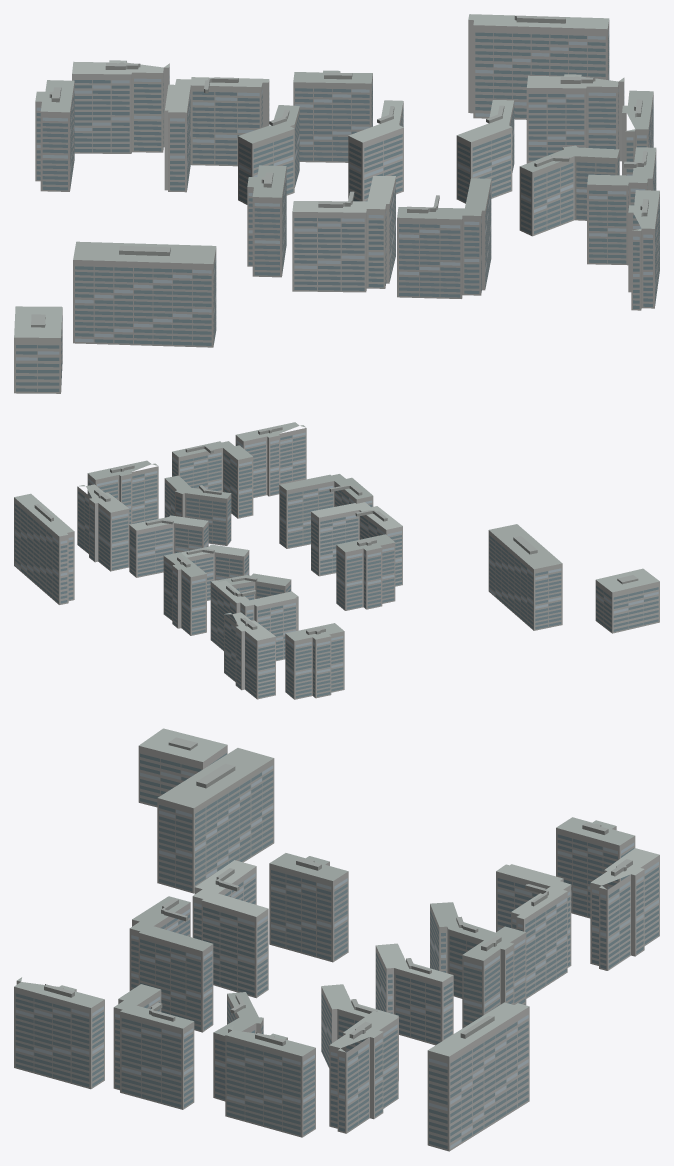
File: apt-a15780806.glb
3 renders of one model, top to bottom at view 1: azimuth 30°, elevation 25°; view 2: azimuth 150°, elevation 25°; view 3: azimuth 270°, elevation 25°, orthographic. The views are drawn at different scales.
Visible parts, largest first — view 1: apt-a15780806; view 2: apt-a15780806; view 3: apt-a15780806.
Part boxes in pixels (left/top/right/bottom): apt-a15780806: left=14, top=14, right=659, bottom=393; apt-a15780806: left=14, top=422, right=659, bottom=699; apt-a15780806: left=14, top=728, right=659, bottom=1151.
Bounding box in the file's own units: 378 × 47.81 × 282.
